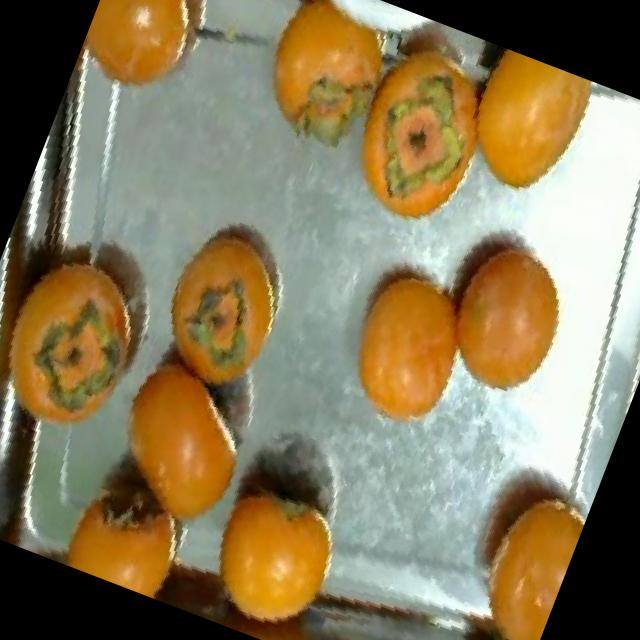Fruit: (71, 325, 276, 556), (402, 202, 606, 428), (312, 228, 508, 458), (127, 187, 322, 414), (175, 454, 378, 640), (223, 0, 423, 183), (324, 59, 505, 252), (428, 449, 599, 640), (441, 44, 612, 224), (66, 0, 245, 132)
